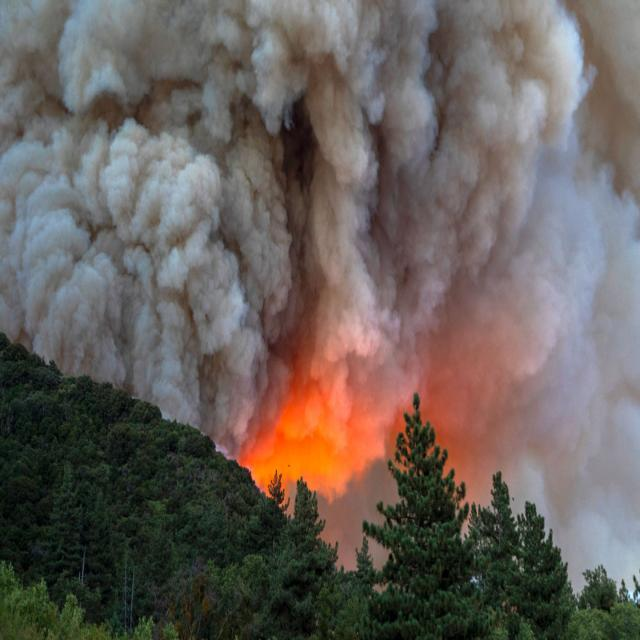Fire: (252, 436, 388, 500)
Smoke: (1, 0, 640, 600)
